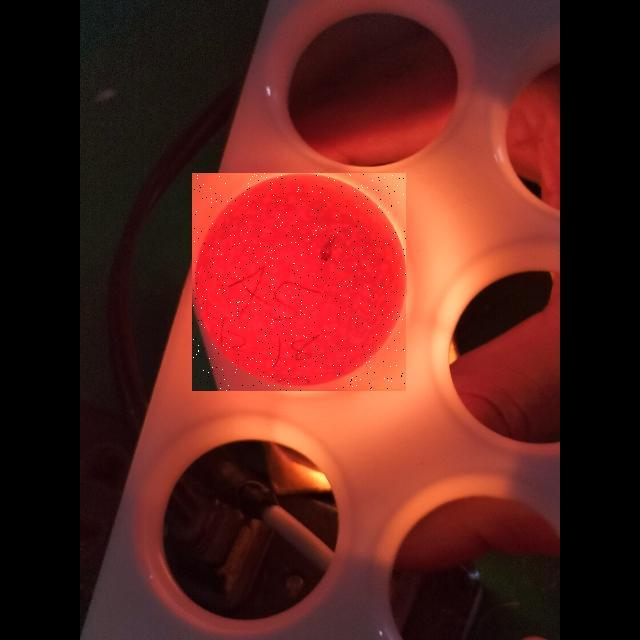Infertile: (192, 173, 406, 391)
